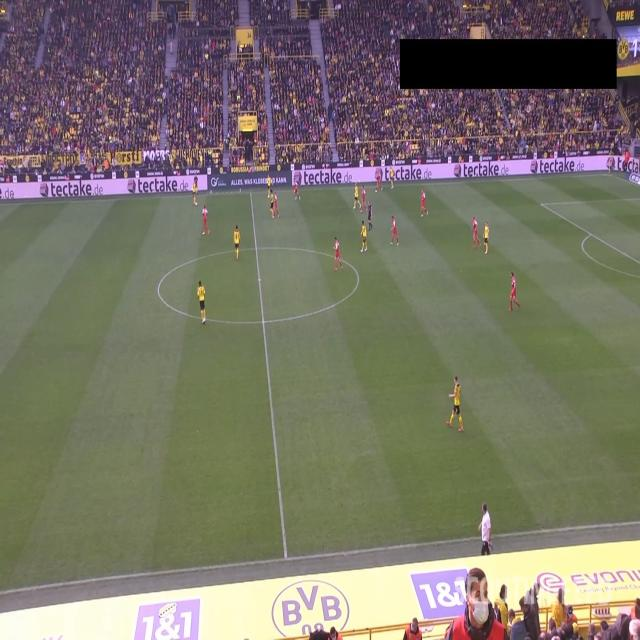ball: (195, 201, 198, 207)
